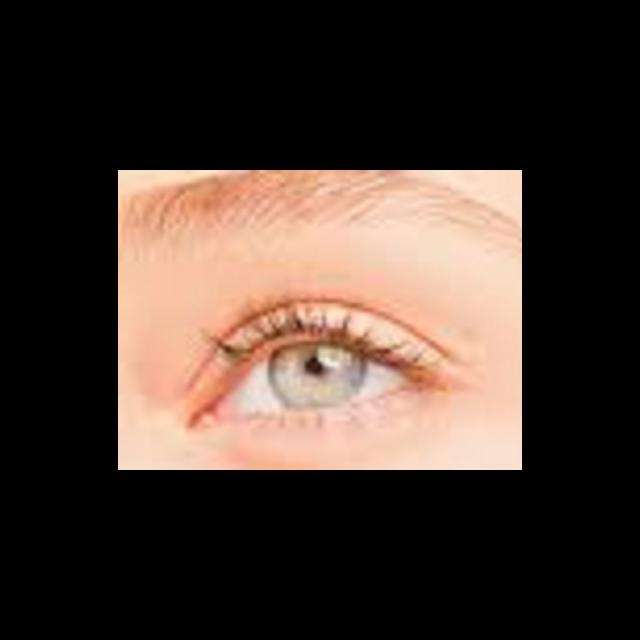eye: (214, 343, 413, 413)
iris: (271, 345, 366, 412)
